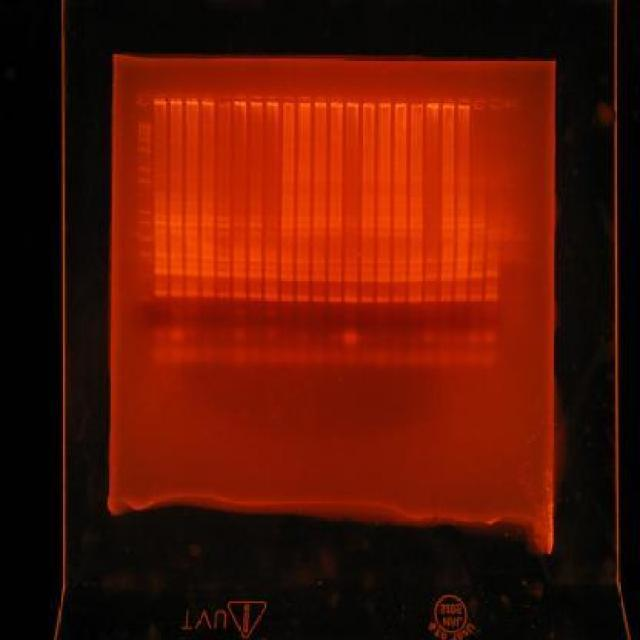B: (201, 288, 216, 300), (408, 272, 423, 283), (200, 268, 216, 278), (391, 256, 407, 266), (407, 294, 422, 304), (327, 294, 342, 304), (184, 288, 200, 297), (279, 293, 295, 302), (295, 293, 311, 302), (153, 267, 169, 276), (343, 274, 359, 283), (391, 274, 407, 283), (170, 288, 184, 298), (454, 292, 468, 302), (344, 256, 358, 266), (424, 272, 438, 282), (376, 274, 390, 284), (376, 256, 390, 266), (484, 293, 499, 302), (248, 271, 263, 280), (344, 213, 359, 222), (468, 272, 484, 280), (264, 292, 280, 300), (343, 296, 359, 304), (153, 259, 169, 267), (310, 258, 326, 266), (279, 257, 295, 265), (279, 265, 295, 273), (279, 274, 295, 282), (343, 265, 359, 273), (216, 270, 232, 278), (408, 258, 424, 266), (392, 266, 408, 274), (376, 266, 392, 274), (360, 266, 376, 274), (360, 257, 376, 265), (343, 287, 359, 295), (263, 284, 279, 292), (232, 291, 246, 300), (170, 268, 184, 277), (327, 274, 342, 282), (327, 258, 342, 266), (408, 265, 423, 273), (407, 287, 422, 295), (154, 290, 168, 298), (484, 284, 498, 292), (472, 228, 486, 236), (217, 290, 231, 298), (248, 292, 262, 300), (424, 294, 438, 302), (438, 294, 452, 302), (392, 295, 406, 303), (376, 296, 390, 304), (360, 295, 374, 303), (312, 295, 326, 303), (186, 269, 200, 277), (186, 260, 200, 268), (154, 252, 168, 260), (200, 229, 214, 237), (200, 262, 214, 270), (454, 273, 468, 281), (456, 264, 470, 272), (456, 222, 470, 230), (328, 266, 342, 274), (312, 274, 326, 282), (312, 266, 326, 274), (296, 274, 310, 282), (296, 265, 310, 273), (232, 270, 246, 278), (232, 262, 246, 270), (439, 273, 453, 281), (440, 264, 454, 272), (440, 257, 454, 265), (264, 272, 278, 280), (264, 264, 278, 272), (264, 255, 278, 263), (248, 255, 262, 263), (248, 263, 262, 271), (424, 256, 438, 264), (360, 275, 374, 283), (470, 262, 484, 270), (486, 270, 500, 278), (486, 252, 500, 260), (216, 230, 230, 238), (248, 220, 262, 228), (248, 230, 262, 238), (232, 220, 246, 228), (440, 223, 454, 231), (440, 230, 454, 238), (409, 222, 423, 230), (393, 230, 407, 238), (377, 230, 391, 238), (312, 222, 326, 230), (232, 230, 246, 238), (280, 222, 294, 230), (296, 222, 310, 230), (154, 280, 168, 288), (154, 200, 168, 208), (153, 192, 167, 200), (439, 284, 453, 292), (200, 244, 214, 252), (440, 248, 454, 256), (232, 247, 246, 255), (469, 294, 482, 302), (185, 229, 198, 237), (487, 235, 501, 242), (153, 228, 167, 235), (453, 286, 469, 292), (470, 285, 482, 293), (170, 252, 182, 260), (294, 258, 310, 264), (440, 217, 456, 223), (408, 217, 424, 223), (392, 223, 408, 229), (391, 216, 407, 222), (376, 223, 392, 229), (376, 216, 392, 222), (360, 231, 376, 237), (328, 216, 344, 222), (184, 282, 200, 288), (328, 222, 343, 228), (328, 231, 343, 237), (470, 256, 484, 262), (472, 217, 486, 223), (472, 236, 486, 242), (486, 228, 500, 234), (184, 254, 198, 260), (154, 220, 168, 226), (184, 214, 198, 220), (184, 221, 198, 227), (200, 216, 214, 222), (200, 222, 214, 228), (200, 254, 214, 260), (456, 257, 470, 263), (457, 216, 471, 222), (456, 232, 470, 238), (232, 256, 246, 262), (217, 256, 231, 262), (216, 263, 230, 269), (216, 222, 230, 228), (216, 214, 230, 220), (248, 216, 262, 222), (232, 214, 246, 220), (410, 232, 424, 238), (360, 222, 374, 228), (360, 216, 374, 222), (344, 222, 358, 228), (312, 231, 326, 237), (312, 216, 326, 222), (280, 231, 294, 237), (280, 216, 294, 222), (297, 216, 311, 222), (296, 232, 310, 238), (264, 222, 278, 228), (264, 216, 278, 222), (264, 231, 278, 237), (217, 202, 231, 208), (297, 194, 311, 200), (296, 202, 310, 208), (280, 194, 294, 200), (280, 202, 294, 208), (169, 282, 183, 288), (297, 164, 311, 170), (282, 164, 296, 170), (280, 174, 294, 180), (249, 202, 263, 208), (232, 284, 246, 290), (248, 250, 262, 256), (184, 192, 198, 198), (184, 200, 198, 206), (169, 192, 183, 198), (297, 176, 311, 182), (169, 221, 182, 227), (169, 228, 182, 234), (169, 172, 182, 178), (170, 261, 182, 267), (154, 213, 166, 219), (170, 200, 182, 206), (169, 215, 182, 220), (471, 224, 484, 228), (154, 174, 166, 178)
L: (133, 88, 522, 114)
M: (134, 117, 154, 305)
P: (138, 294, 154, 302), (136, 250, 152, 258), (137, 164, 151, 173), (136, 235, 152, 242), (137, 176, 151, 184), (138, 272, 152, 278), (137, 220, 151, 226), (138, 208, 152, 214), (137, 147, 151, 153), (138, 137, 152, 143), (138, 124, 152, 130), (138, 133, 152, 138)
Pc: (136, 93, 152, 109), (184, 93, 200, 107), (249, 94, 265, 108), (298, 95, 312, 111), (280, 96, 296, 110), (377, 96, 392, 110), (216, 95, 232, 108), (456, 98, 472, 111), (232, 95, 248, 108), (153, 93, 167, 107), (200, 94, 214, 108), (362, 97, 376, 111), (346, 96, 360, 110), (314, 96, 328, 110), (426, 98, 440, 111), (410, 98, 424, 111), (266, 95, 280, 108), (330, 95, 344, 108), (488, 98, 503, 110), (441, 98, 456, 110), (393, 98, 409, 109), (504, 98, 518, 110), (474, 98, 486, 111), (170, 94, 182, 106)
